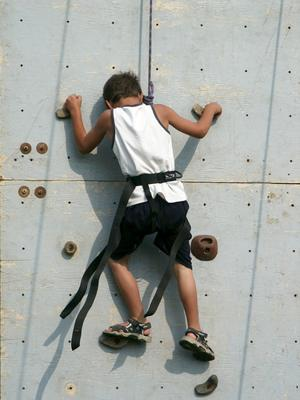person: (64, 72, 223, 363)
